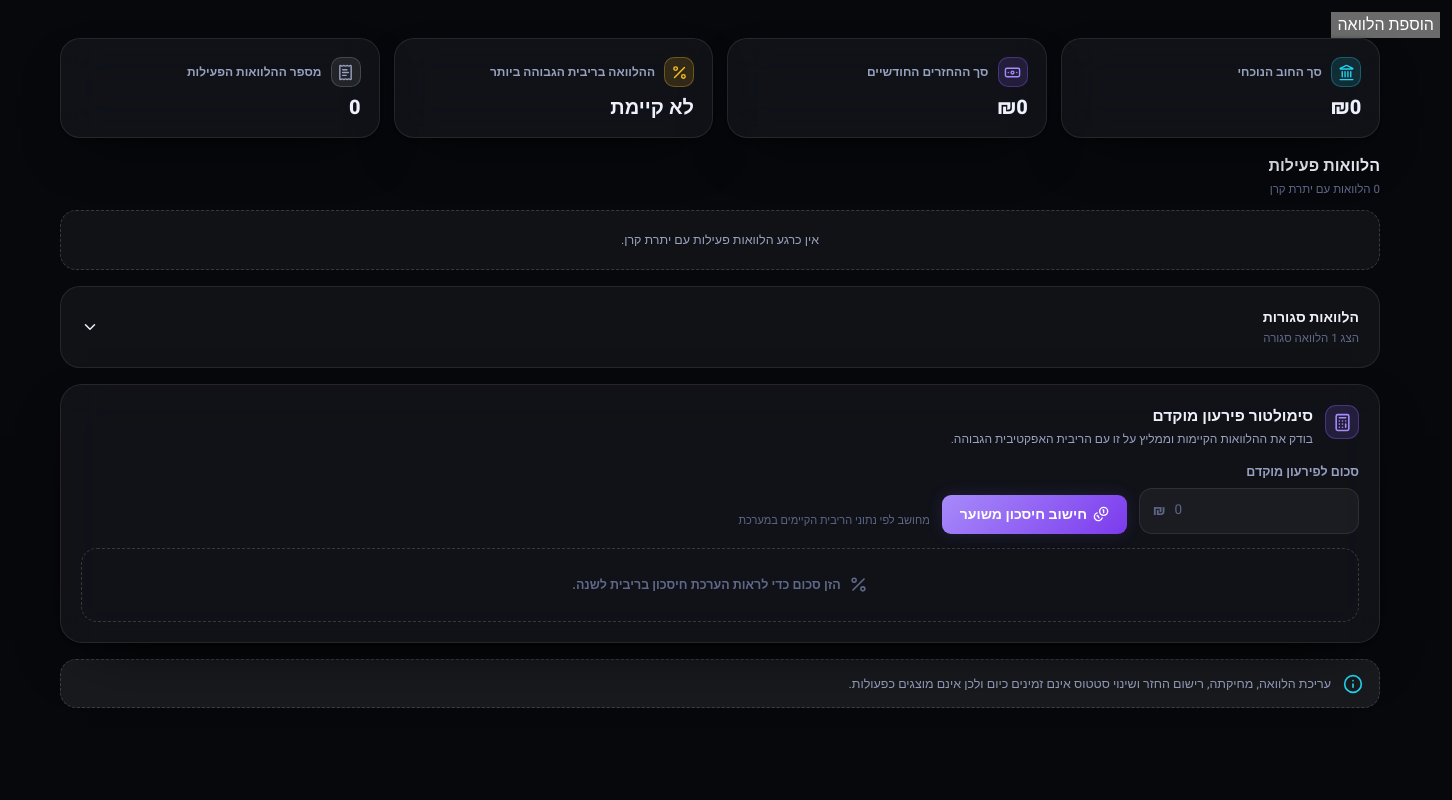
loans loading, summary, and cards › uses normal paid terminology when the list summary has no early payoff
What coordinates should you click on to do the following:
click the button "הלוואות סגורות הצג 1 הלוואה סגורה"
I would click on:
 (1311, 318)
Its box is [75,301,1365,353].
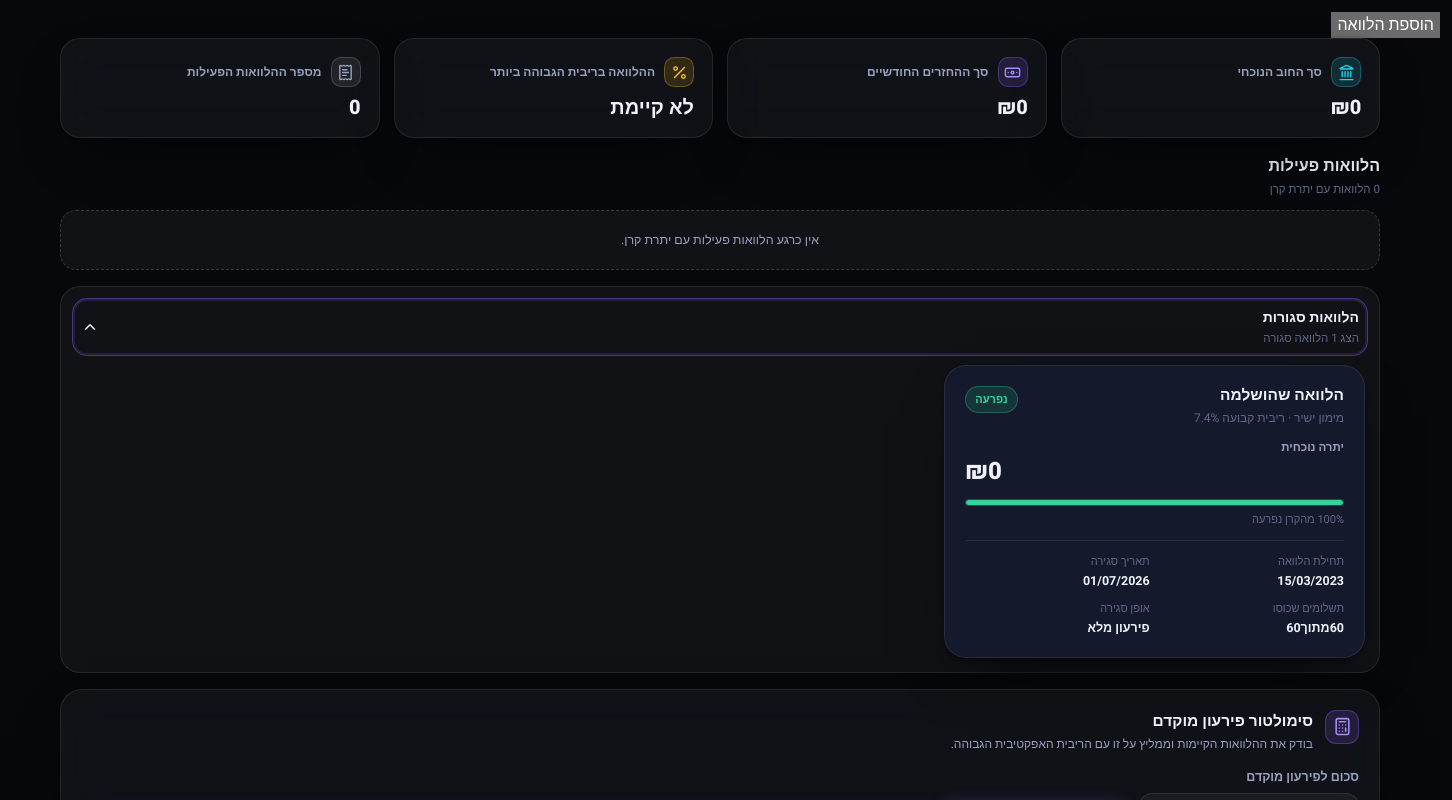
Now the text "נפרעה" is shown, box [965,386,1018,413]
Now the text "פירעון מלא" is shown, box [1088,618,1150,636]
